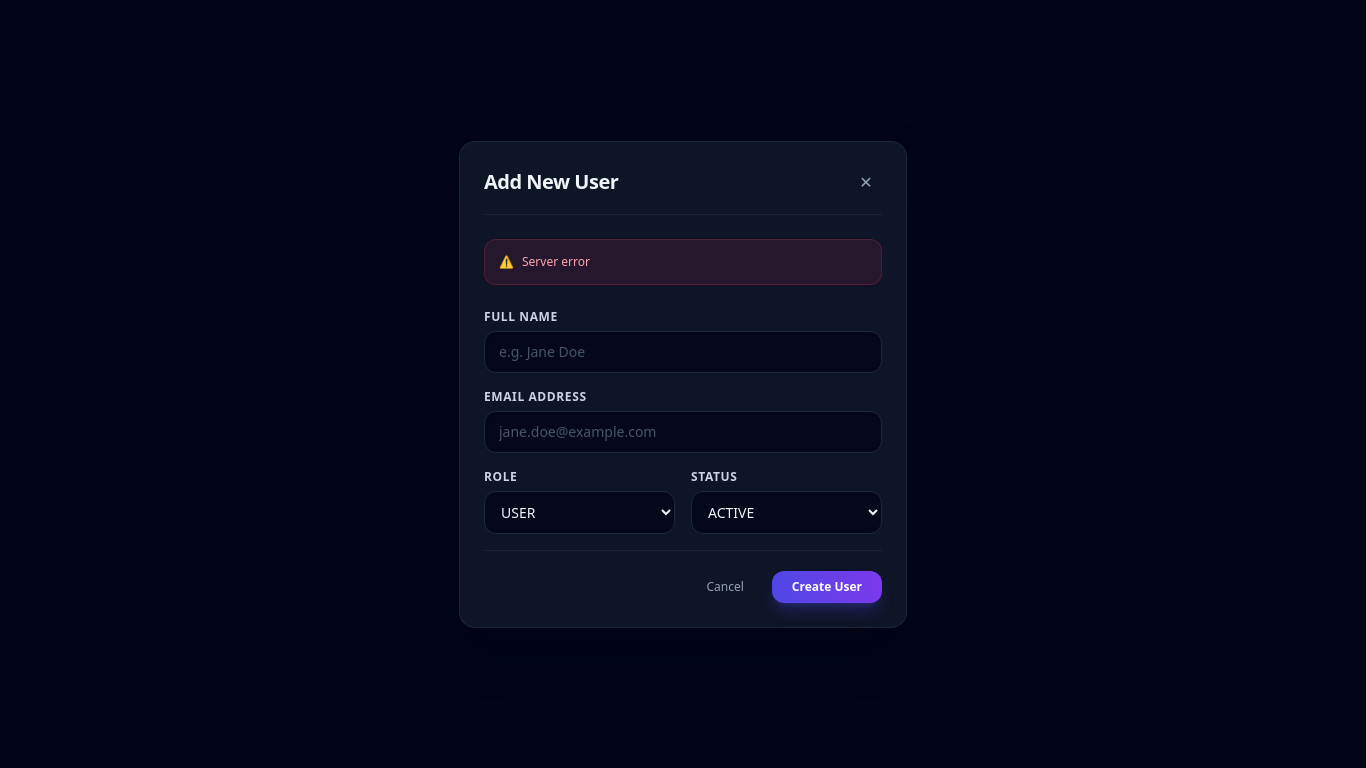
Scenario: UserFormModal › displays API error and catches submission rejection
Check: the text "Server error" is shown, box [522,254,590,270]
Type "Sam Smith" into the field with placeholder "e.g. Jane Doe" at (683, 352), box [484,330,882,372]
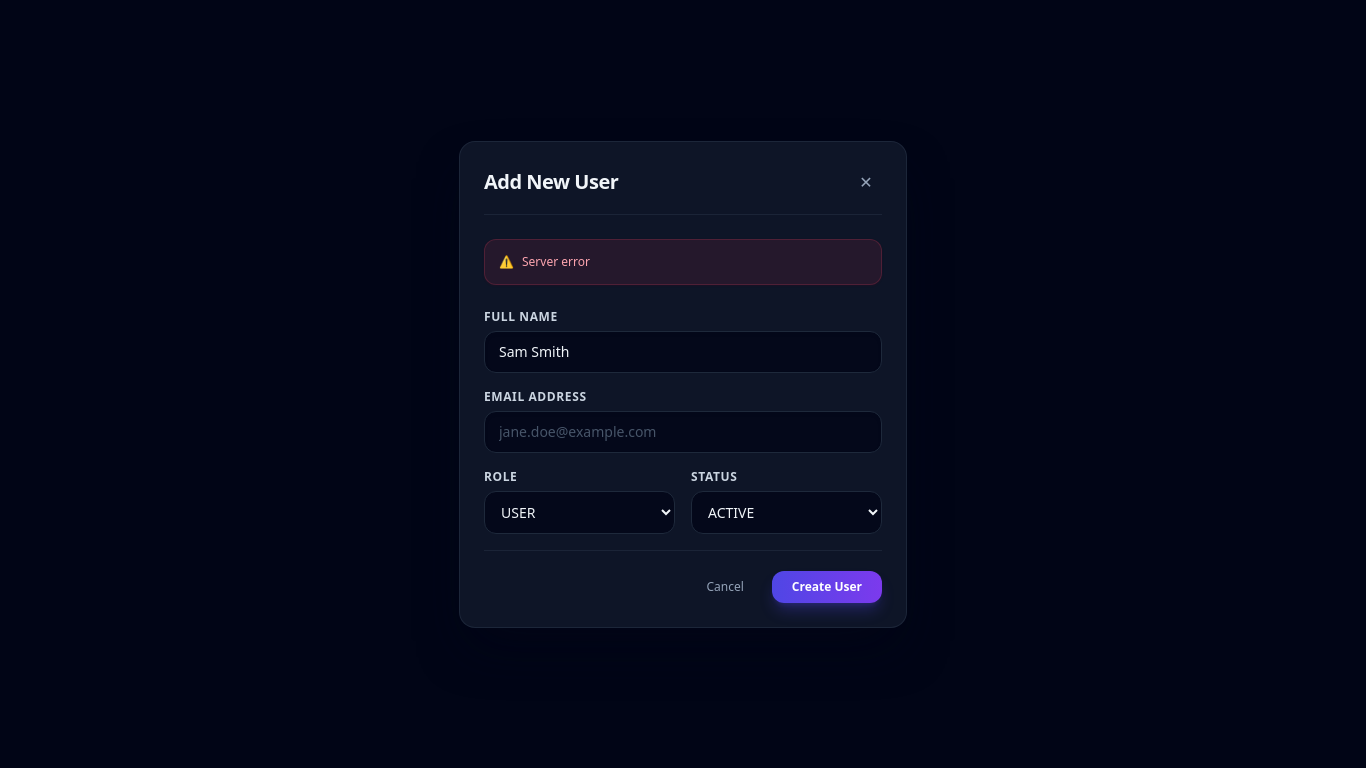
Type "sam@example.com" into the field with placeholder "jane.doe@example.com" at (683, 432), box [484,410,882,452]
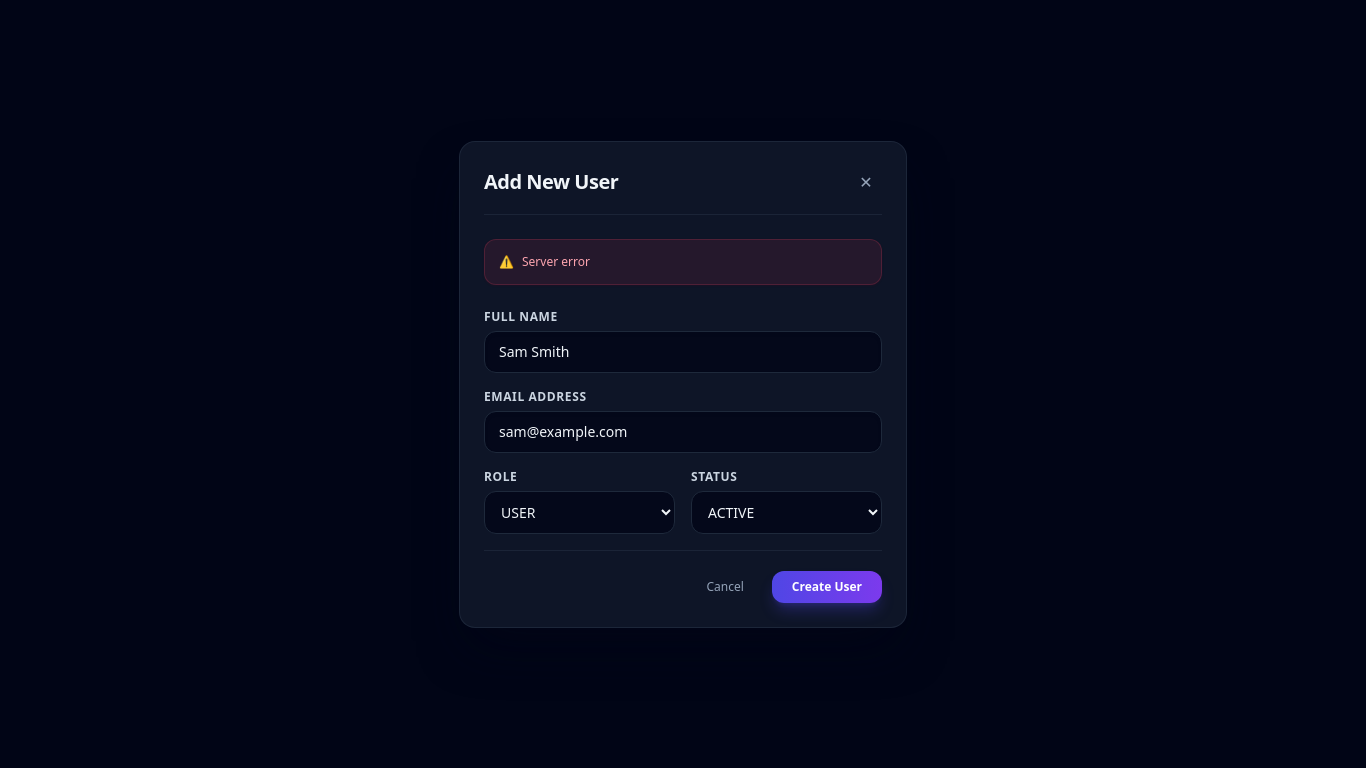
Submit the form "Full Name Email Address Role Status Cancel Create User", box [484,308,882,602]
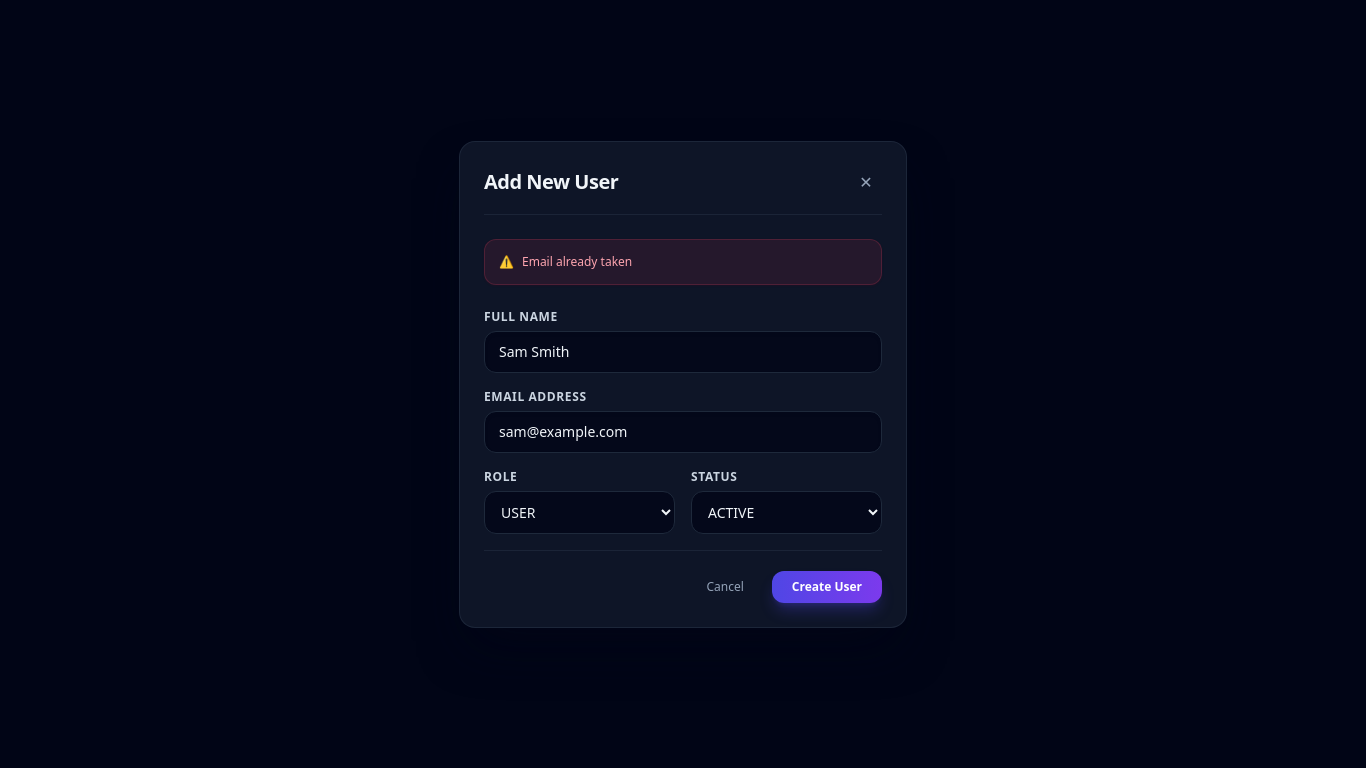
Check: the text "Email already taken" is shown, box [522,254,632,270]
